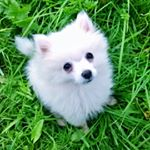puppy: (33, 8, 116, 131)
